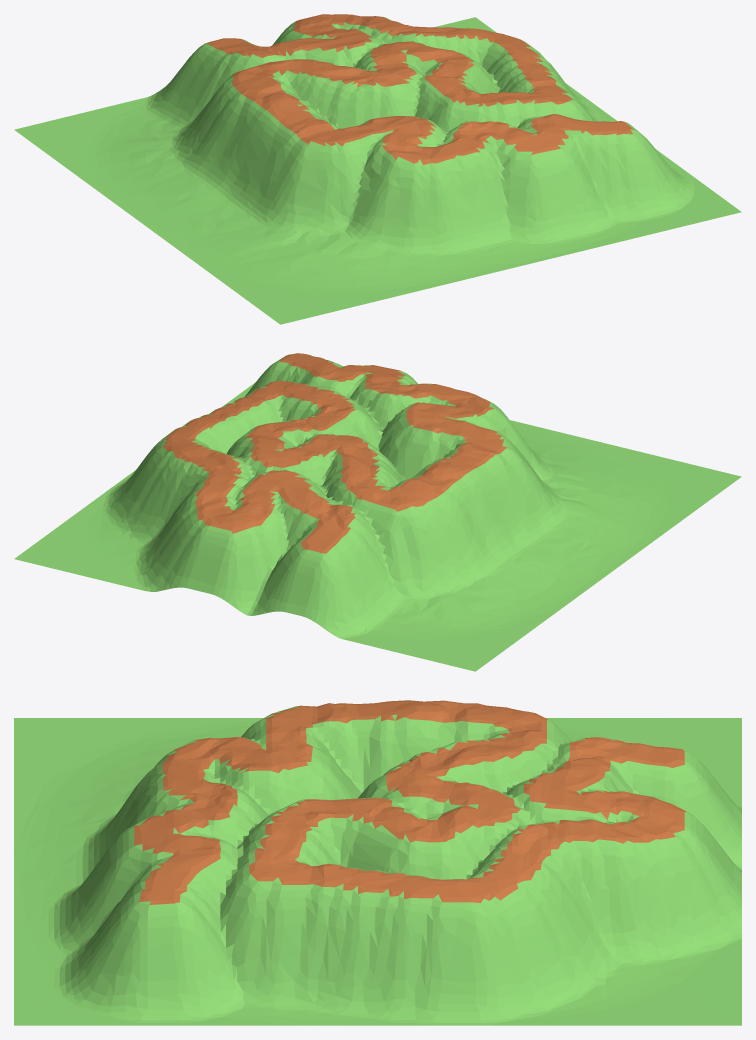
The model's file is TerrainRallyEvolution.glb.
The picture shows the model from 3 angles, top to bottom: view 1: azimuth 30°, elevation 25°; view 2: azimuth 150°, elevation 25°; view 3: azimuth 270°, elevation 25°; orthographic projection. The views are drawn at different scales.
Parts seen in each view (by area): view 1: Landscape; view 2: Landscape; view 3: Landscape.
Boxes of the visible parts, left/top/right/bottom form: Landscape: left=14, top=14, right=741, bottom=324; Landscape: left=14, top=353, right=741, bottom=671; Landscape: left=14, top=700, right=741, bottom=1025.
Bounding box in the file's own units: 8 × 1.35 × 8.
